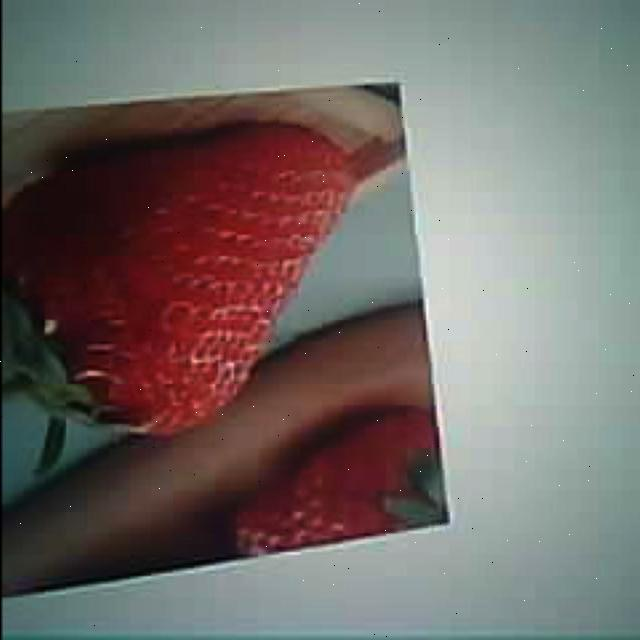strawberry: (6, 121, 346, 432)
